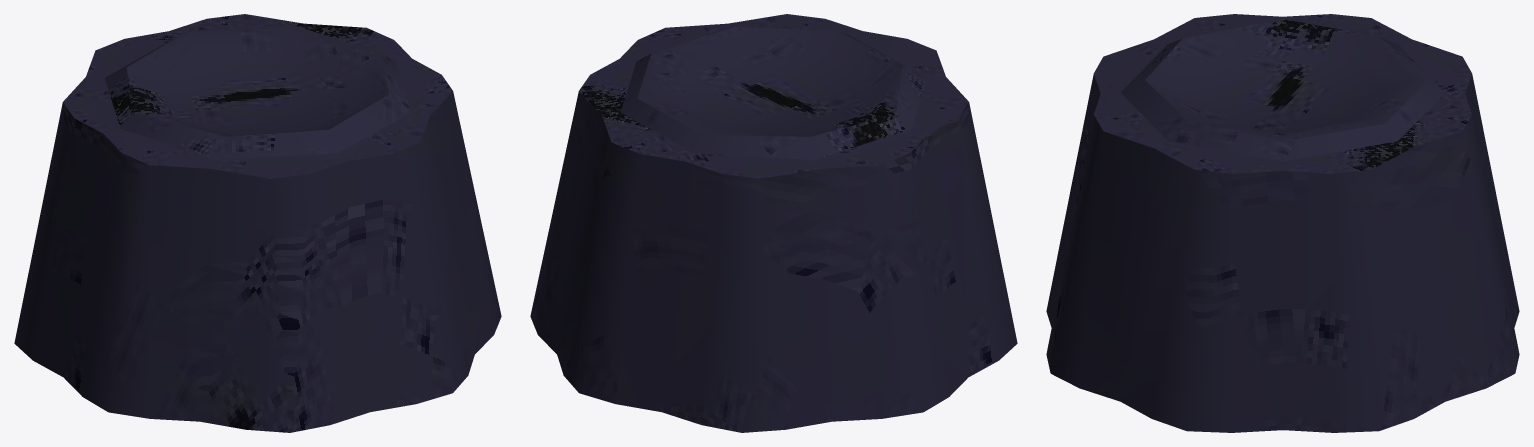
Rendered from Knob.glb.
The picture shows the model from 3 angles, left to right: view 1: azimuth 30°, elevation 25°; view 2: azimuth 150°, elevation 25°; view 3: azimuth 270°, elevation 25°; orthographic projection. The views are drawn at different scales.
Parts seen in each view (by area): view 1: Knob; view 2: Knob; view 3: Knob.
Boxes of the visible parts, bbox=[...] form: Knob: bbox=[14, 14, 501, 432]; Knob: bbox=[530, 14, 1017, 432]; Knob: bbox=[1046, 14, 1519, 432].
Bounding box in the file's own units: 1.77 × 1.05 × 1.77.
1 material, 1 textured.
